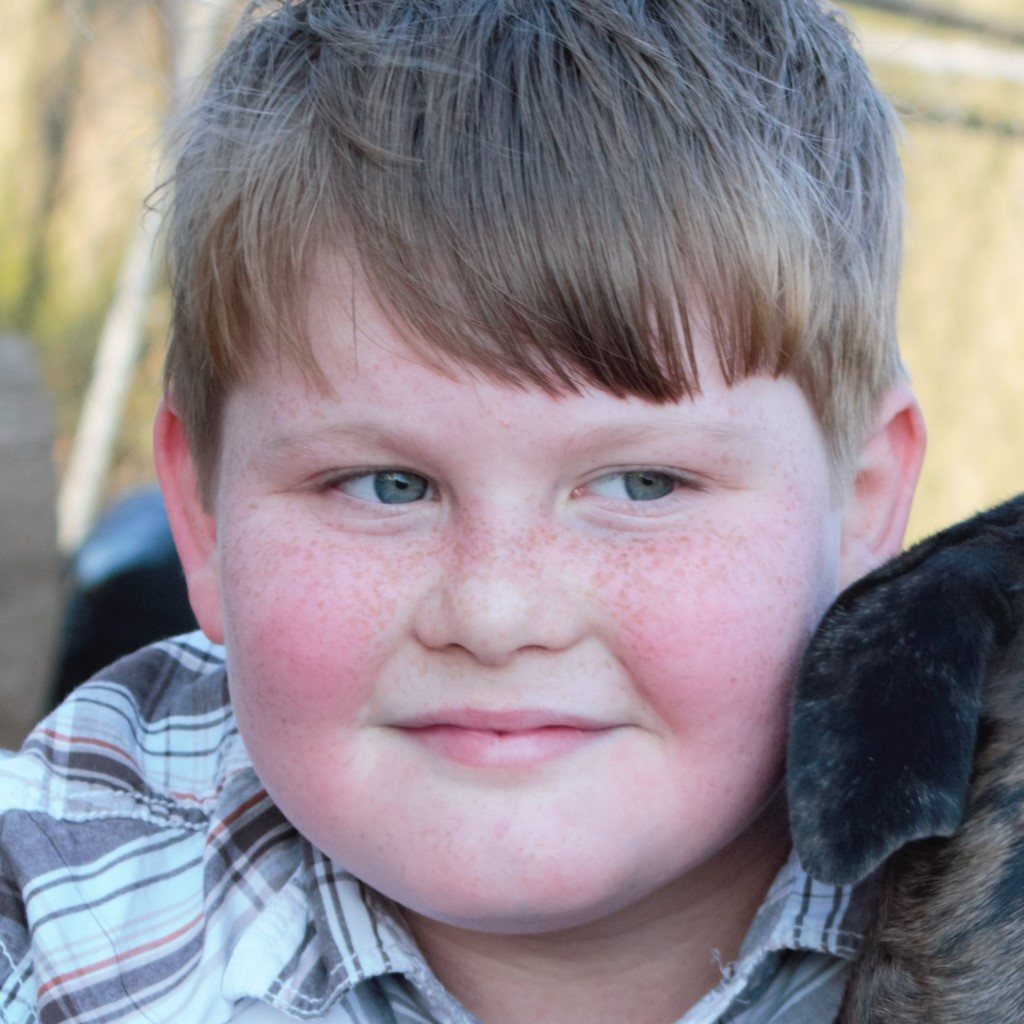sin_mascara: (202, 83, 835, 930)
